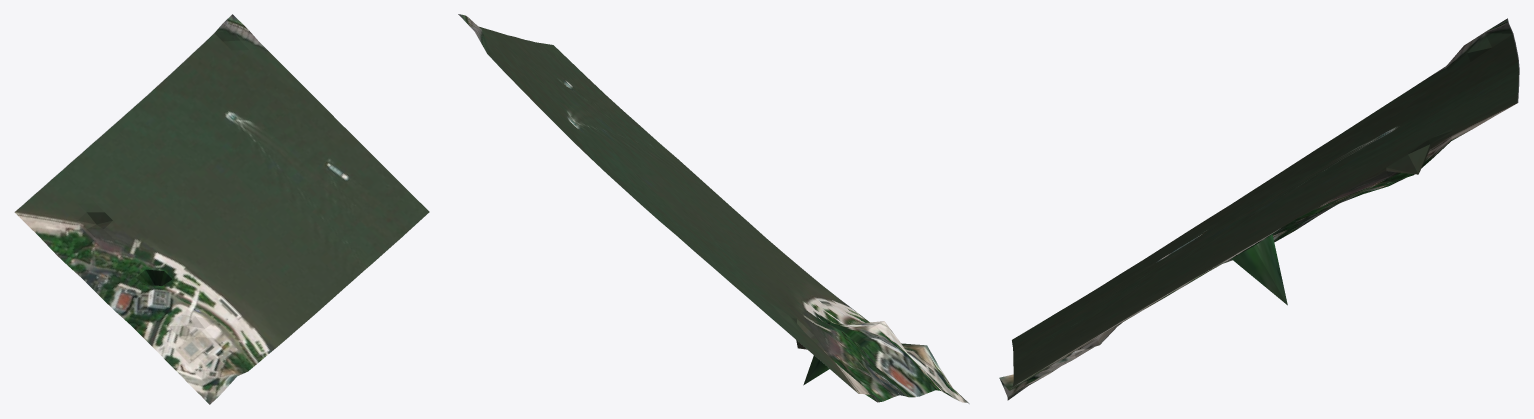
The picture shows the model from 3 angles, left to right: view 1: azimuth 30°, elevation 25°; view 2: azimuth 150°, elevation 25°; view 3: azimuth 270°, elevation 25°; orthographic projection. The views are drawn at different scales.
Size of the model in its own units: 587 by 512 by 458.
1 material, 1 textured.
